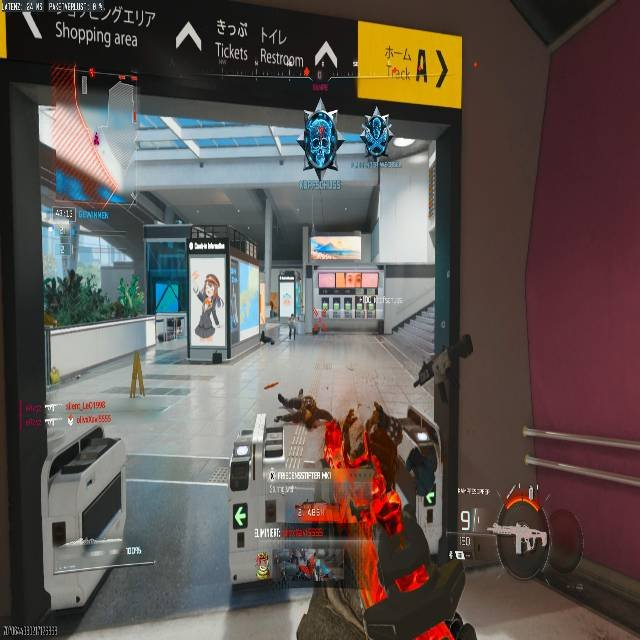head: (205, 273, 219, 290)
player: (298, 94, 343, 182), (361, 108, 392, 161), (195, 273, 222, 331), (287, 313, 298, 340)
